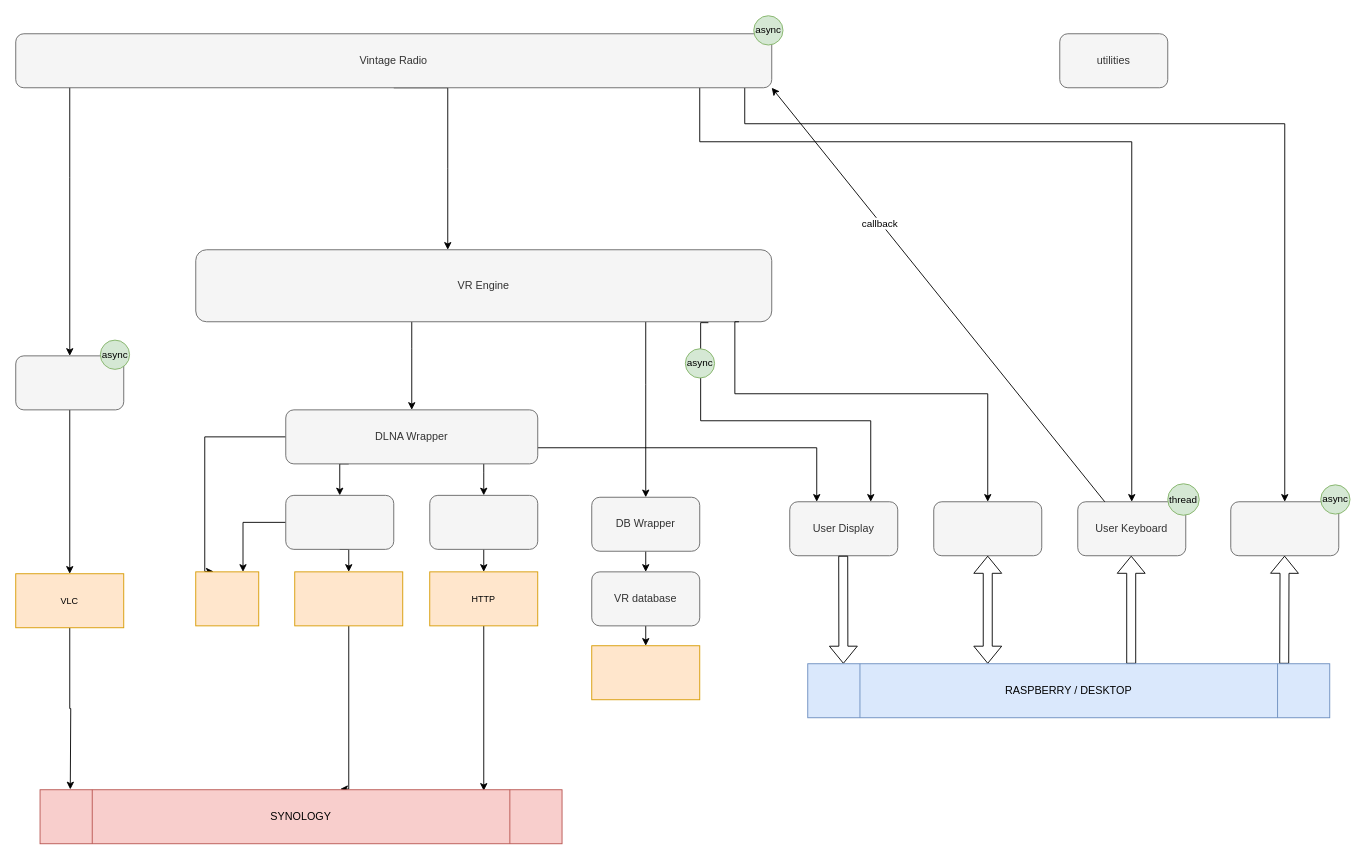
The diagram is 1366 pixels wide and 860 high, and some of its shapes have lost their labels. Here are the shapes that lost their labels. From the top down, the centre of each, then its label:
point (69, 382): DLNA music
point (339, 521): DLNA Network
point (483, 521): Tag Collector
point (987, 528): User Prefs
point (1284, 528): User Requets
point (227, 598): ElementTree
point (348, 598): SOAP
point (645, 672): SQLite
